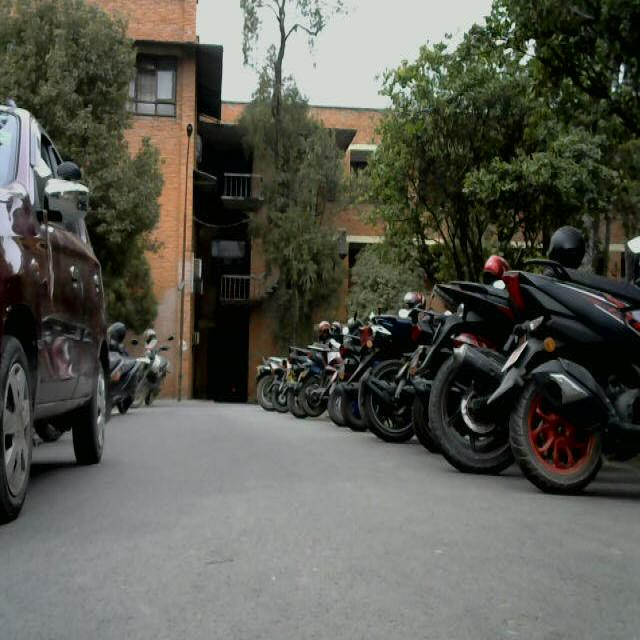Bike: (508, 246, 640, 494), (420, 261, 512, 477), (344, 303, 424, 450), (113, 307, 153, 433), (137, 308, 180, 422), (305, 328, 339, 424)
Car: (1, 102, 106, 530)
Pole: (177, 119, 202, 414)
Road: (15, 390, 629, 637)
trees: (380, 11, 640, 248), (224, 6, 348, 283)
